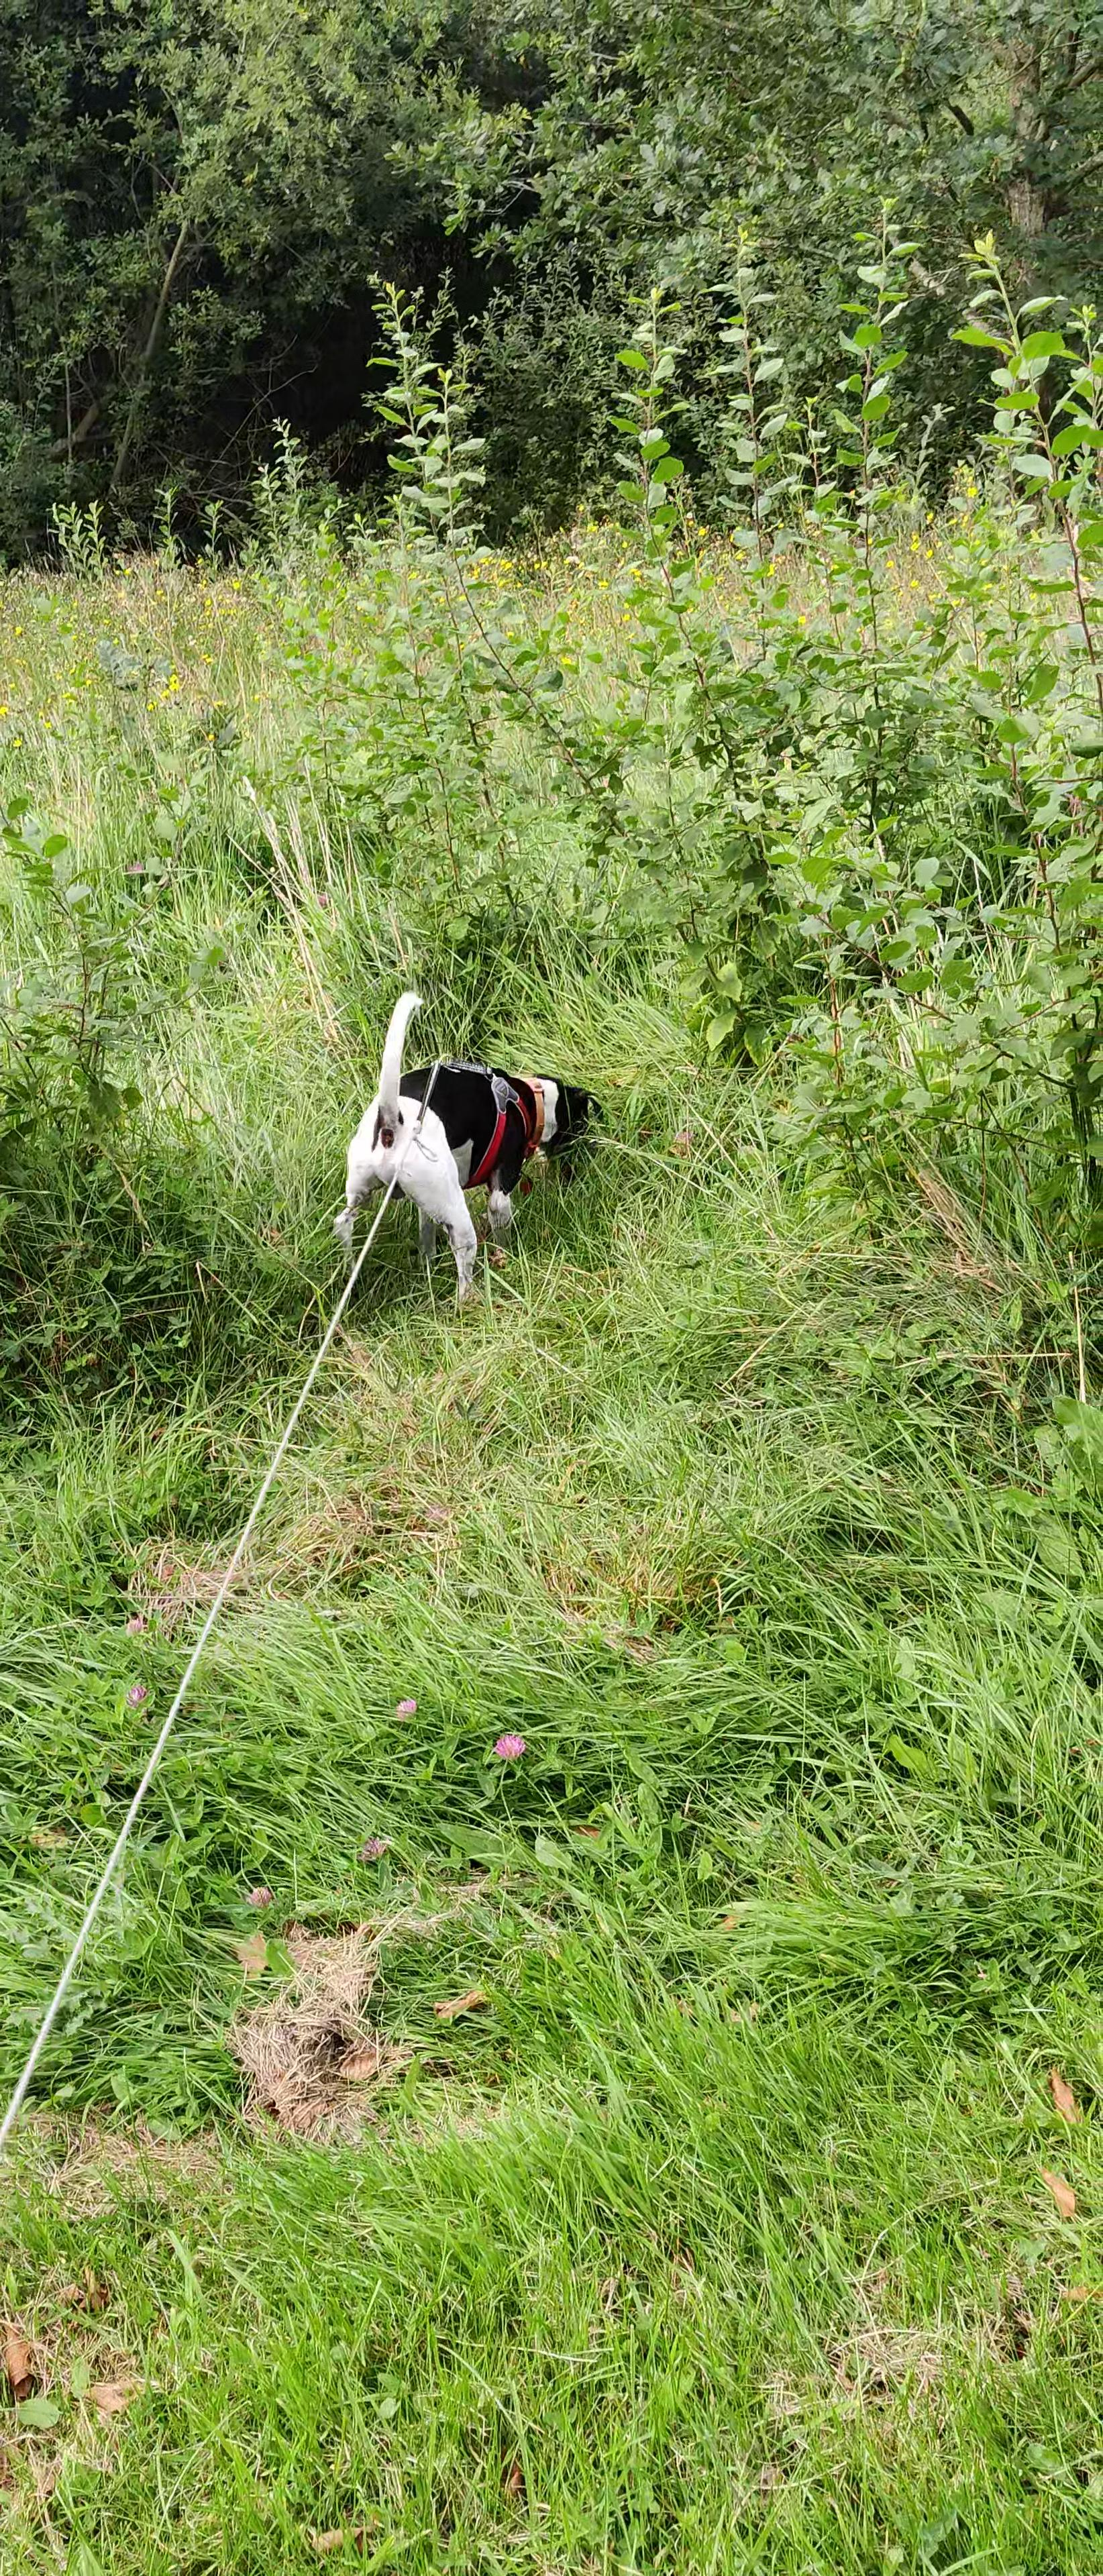Dog: (319, 987, 631, 1324)
